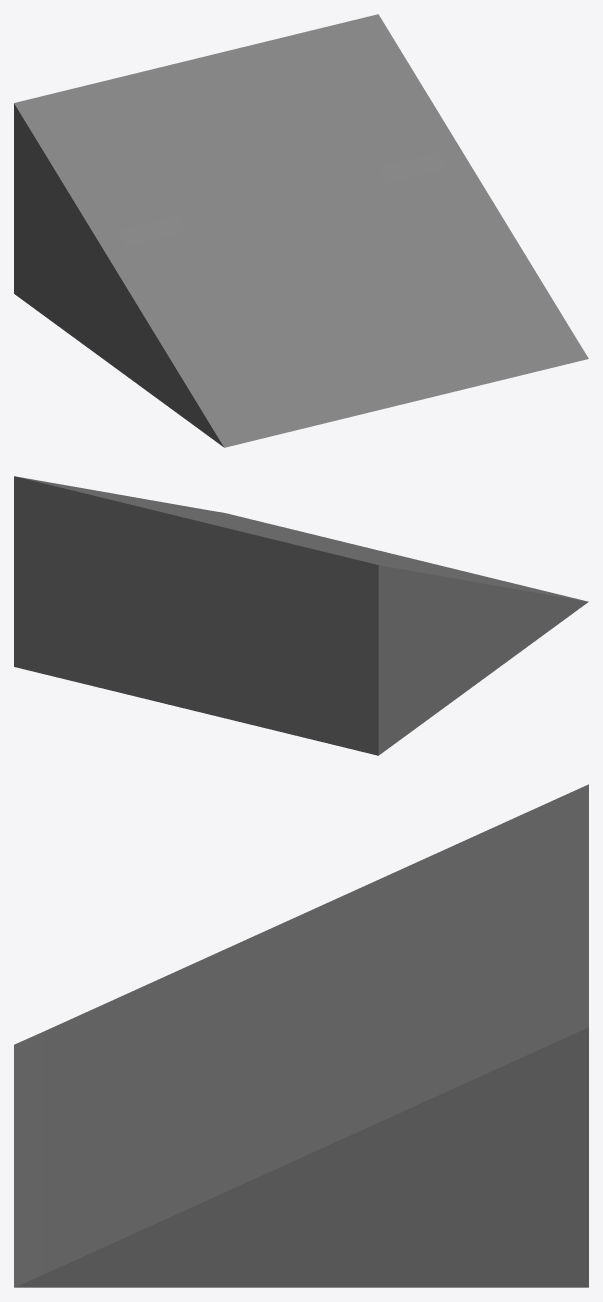
File: q-scifi-mod-platform-ramp-2.glb
3 views of the same model, one above another, from view 1: azimuth 30°, elevation 25°; view 2: azimuth 150°, elevation 25°; view 3: azimuth 270°, elevation 25° (orthographic). The views are drawn at different scales.
Parts seen in each view (by area): view 1: Platform_Ramp_2; view 2: Platform_Ramp_2; view 3: Platform_Ramp_2.
Boxes of the visible parts, x1=… form: Platform_Ramp_2: x1=14, y1=14, x2=588, y2=447; Platform_Ramp_2: x1=14, y1=476, x2=588, y2=755; Platform_Ramp_2: x1=14, y1=784, x2=588, y2=1287.
Bounding box in the file's own units: 2 × 1 × 2.
3 materials, 3 textured.
